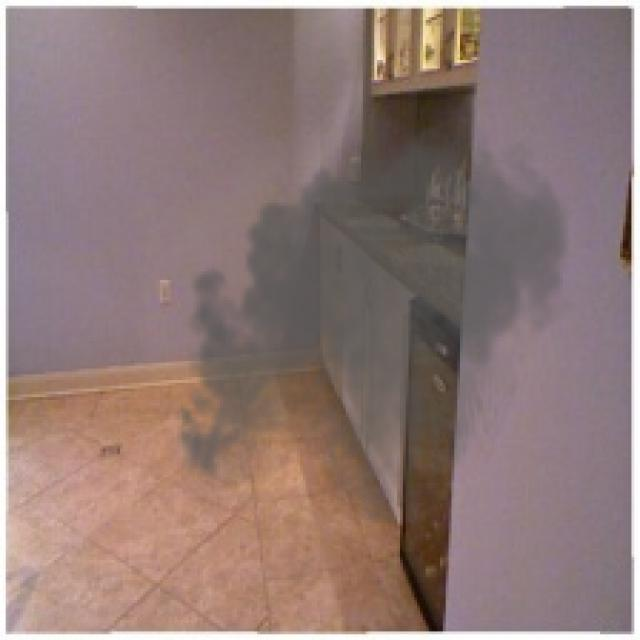Smoke: (162, 106, 578, 523)
